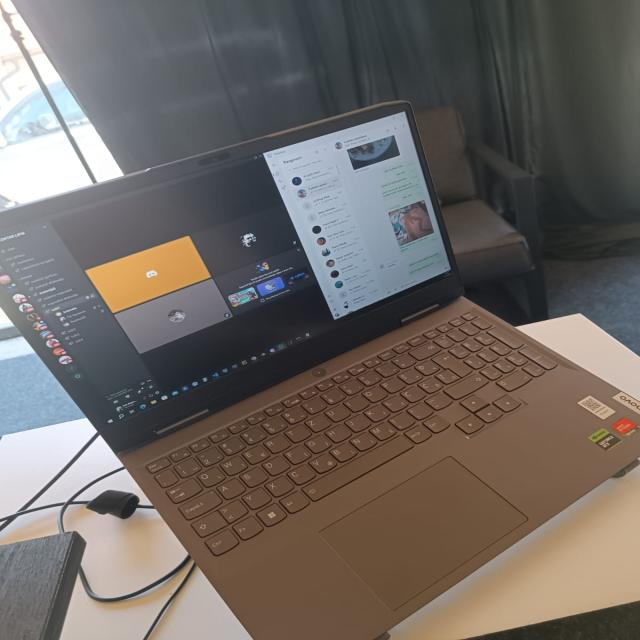Laptops_bbox: (0, 94, 640, 640)
